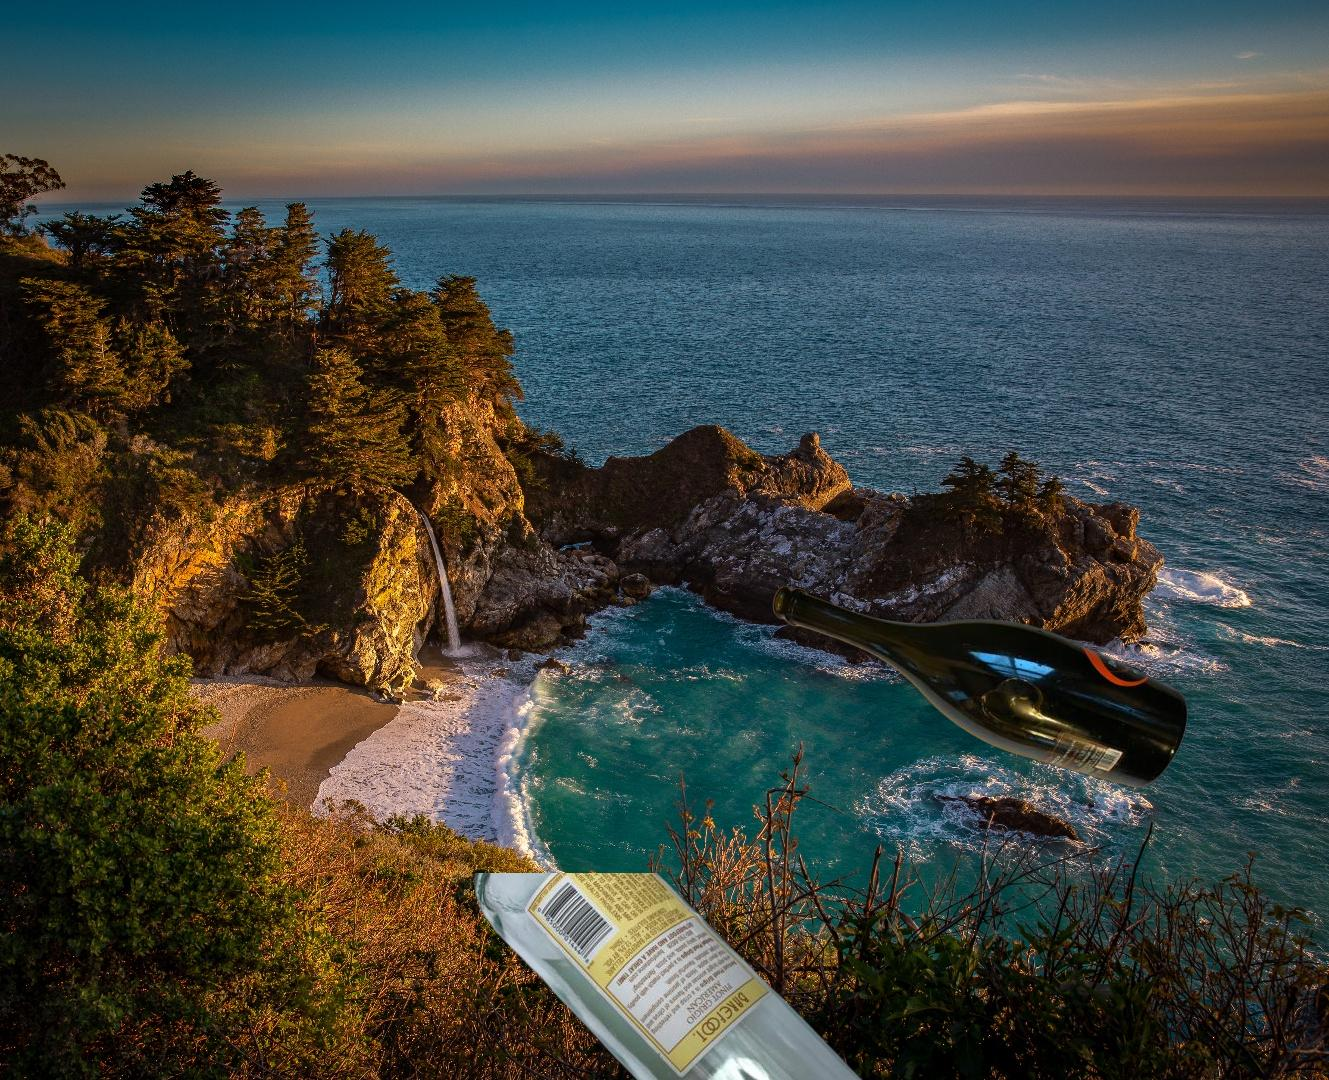glass: (460, 873, 971, 1080), (768, 583, 1193, 791)
